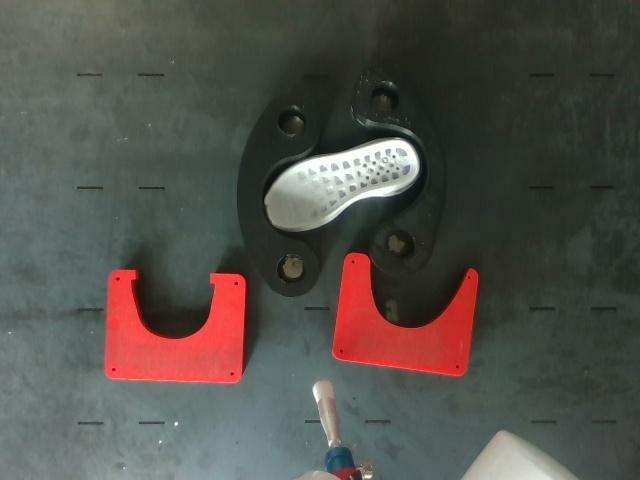shoes: (265, 140, 418, 227)
